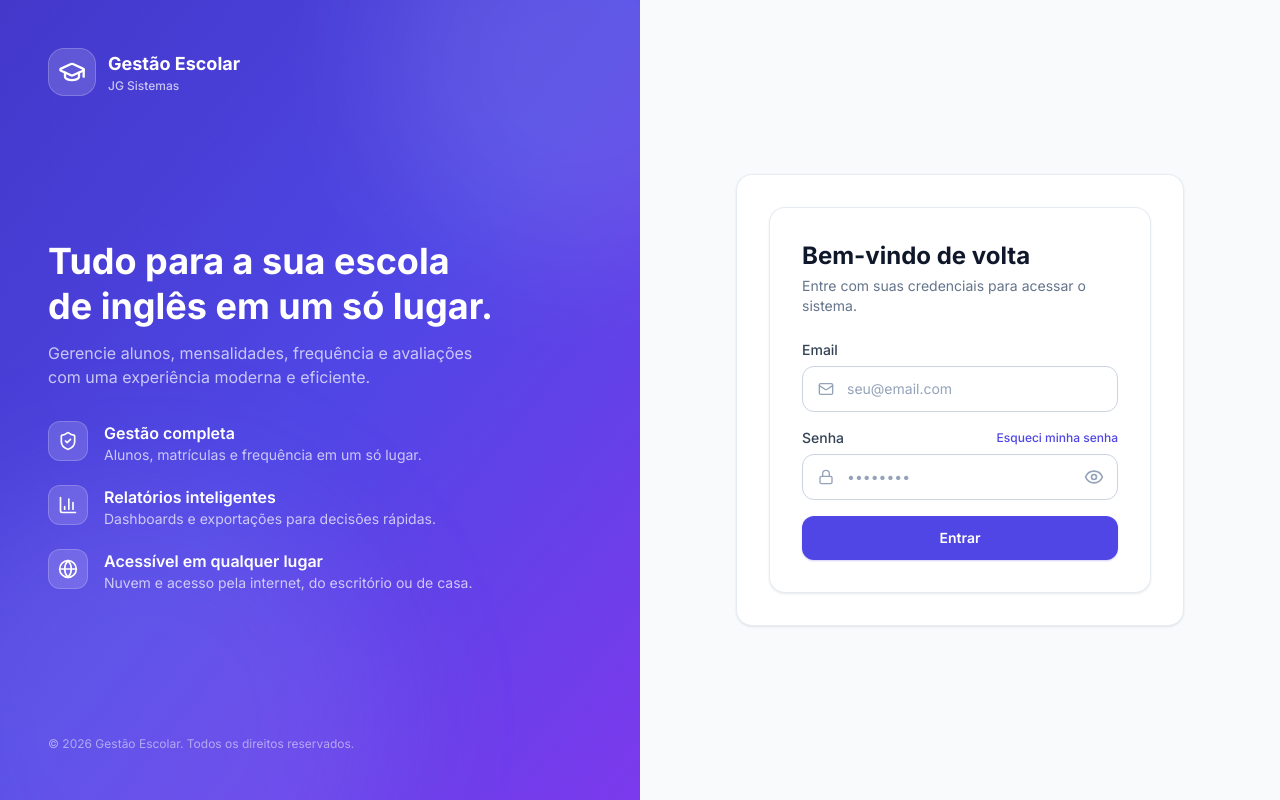
Login › mostra mensagem de erro retornada pela API quando o login falha
Type "ana@teste.com" into the field with placeholder "seu@email.com" at (960, 389), box [802,366,1118,412]
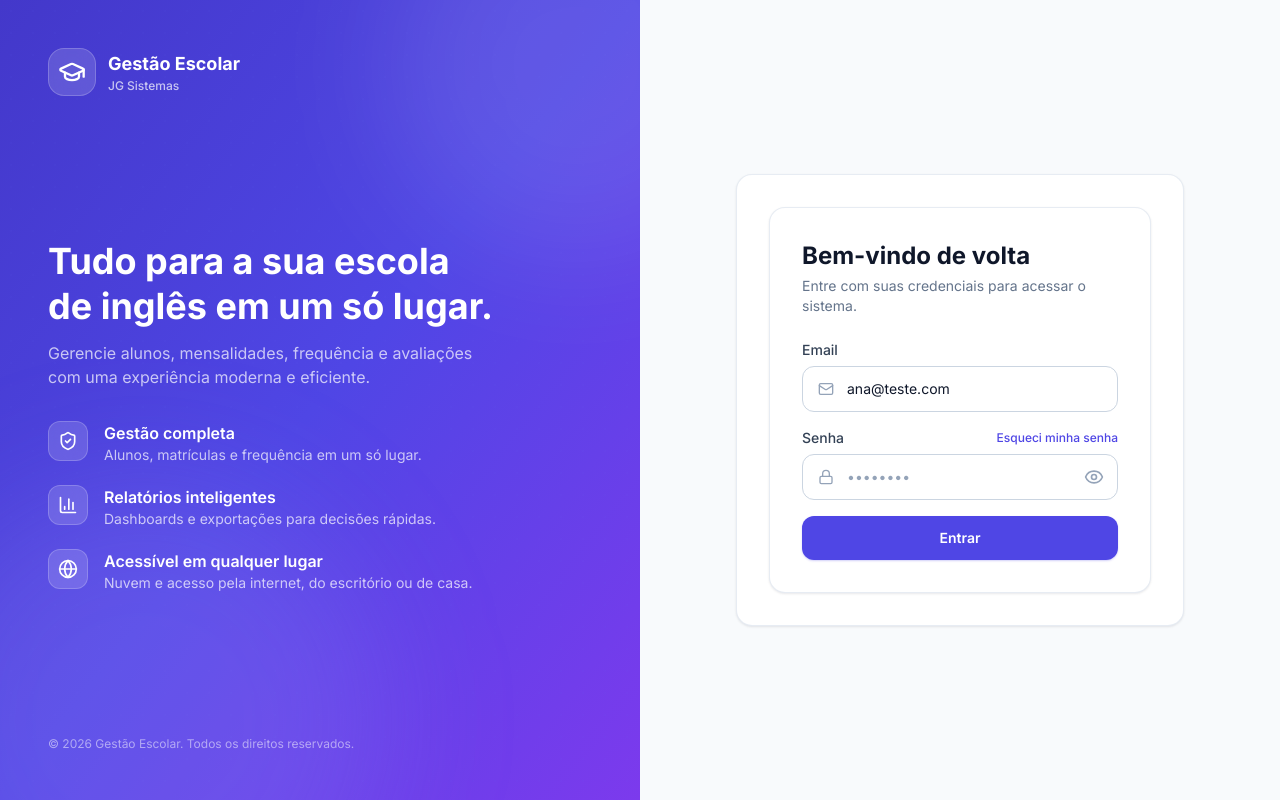
Type "errada" into the password field with placeholder "••••••••" at (960, 477), box [802,454,1118,500]
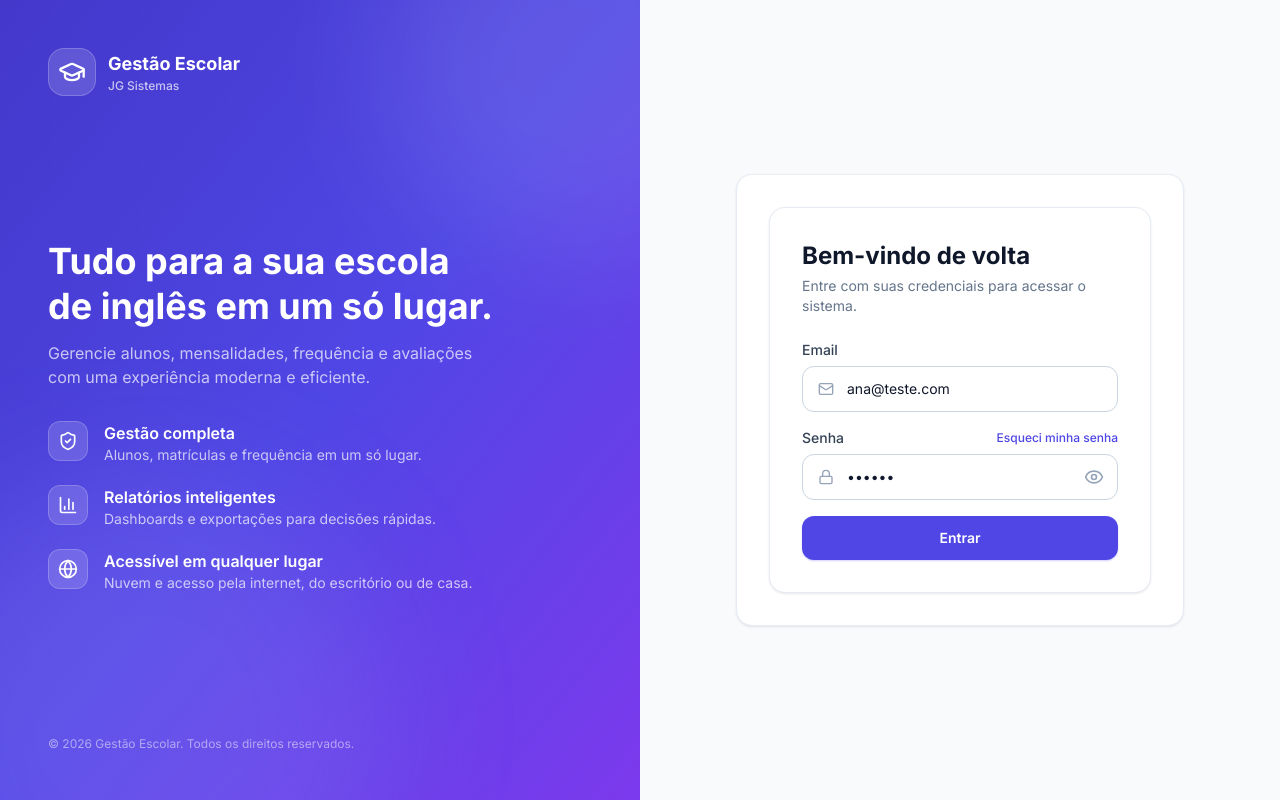
Click the button "Entrar" at (960, 538), box [802,516,1118,560]
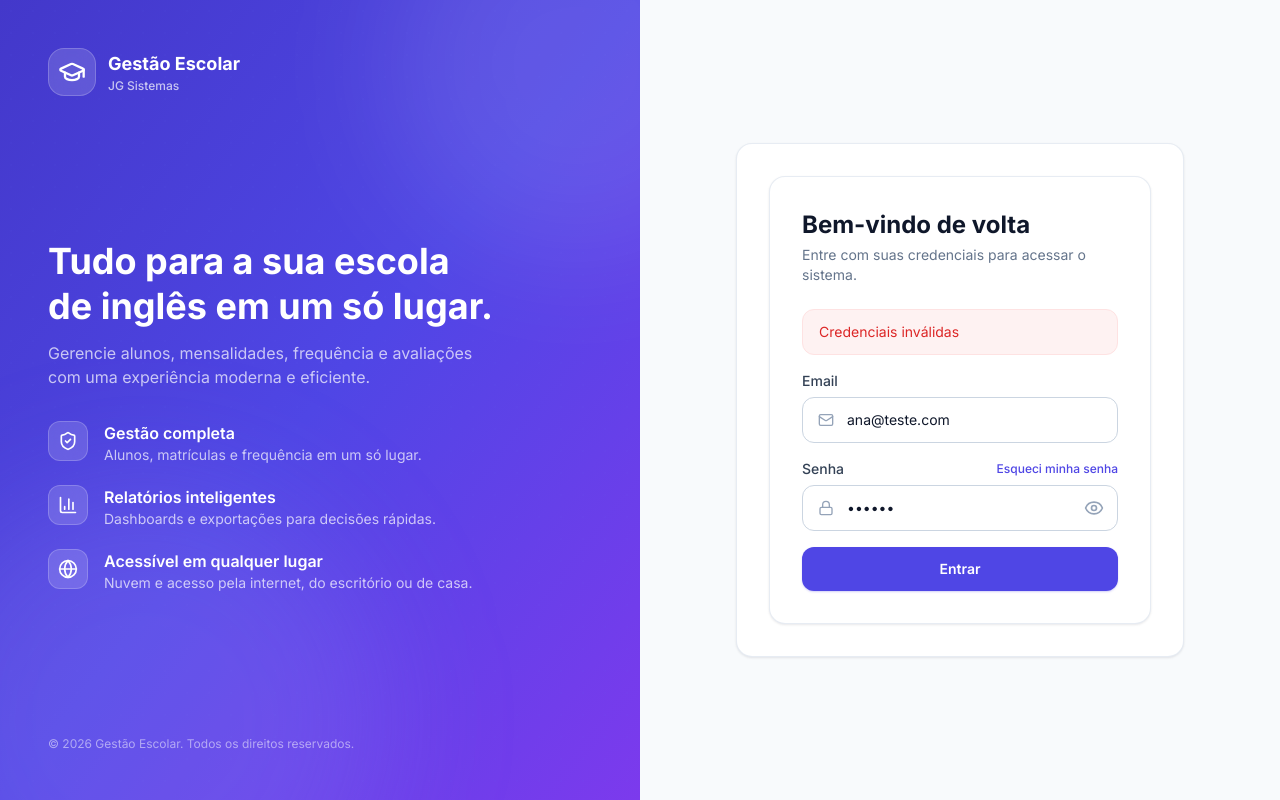
expect the text "Credenciais inválidas" is shown: met, box [802,309,1118,355]
